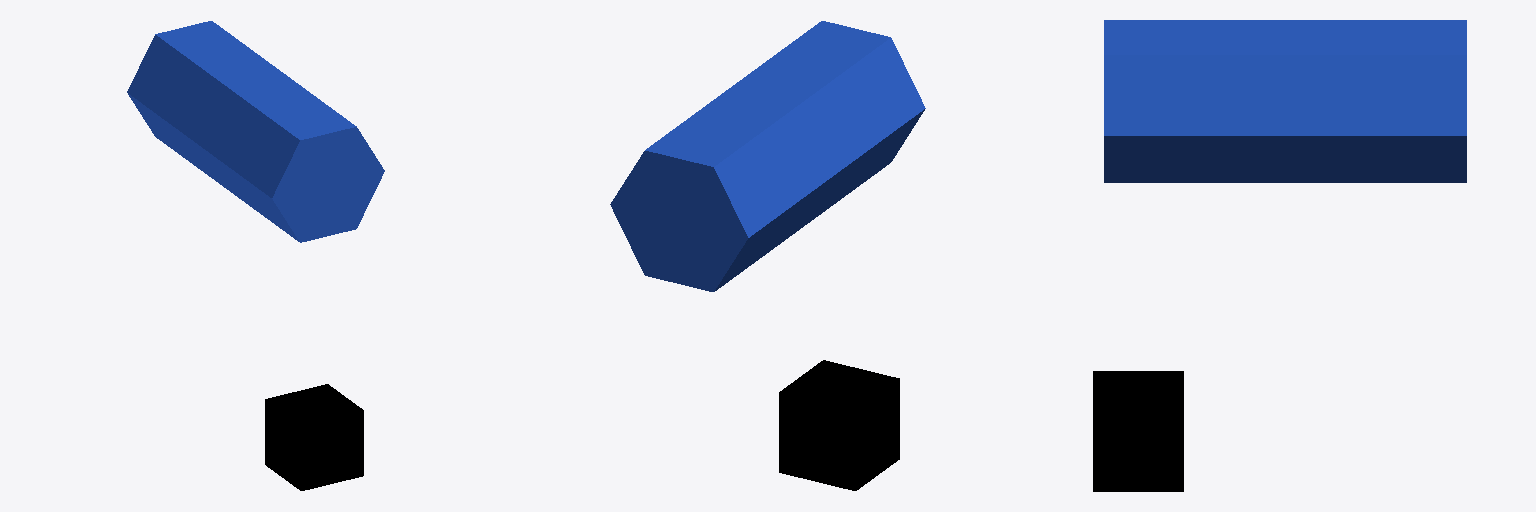
The robot description file, URDF, robot "ur5_robotiq_85":
<?xml version="1.0" ?>
<!-- =================================================================================== -->
<!-- |    This document was autogenerated by xacro from sisbot.xacro                   | -->
<!-- |    EDITING THIS FILE BY HAND IS NOT RECOMMENDED                                 | -->
<!-- =================================================================================== -->


<robot name="ur5_robotiq_85" xmlns:xacro="http://ros.org/wiki/xacro">
  <!--################################################
  ########              arm                    #######
  ####################################################-->

  <link name="base_link">
    <visual>
      <geometry>
        <mesh filename="../meshes/ur5/visual/base.obj"/>
      </geometry>
      <material name="LightGrey">
        <color rgba="0.7 0.7 0.7 1.0"/>
      </material>
    </visual>
    <collision>
      <geometry>
        <mesh filename="../meshes/ur5/collision/base.stl"/>
      </geometry>
    </collision>
    <inertial>
      <mass value="4.0"/>
      <origin rpy="0 0 0" xyz="0.0 0.0 0.0"/>
      <inertia ixx="0.00443333156" ixy="0.0" ixz="0.0" iyy="0.00443333156" iyz="0.0" izz="0.0072"/>
    </inertial>
  </link>

  <joint name="shoulder_pan_joint" type="revolute">
    <parent link="base_link"/>
    <child link="shoulder_link"/>
    <origin rpy="0.0 0.0 0.0" xyz="0.0 0.0 0.089159"/>
    <axis xyz="0 0 1"/>
    <limit effort="150.0" lower="-3.14159265359" upper="3.14159265359" velocity="3.15"/>
    <dynamics damping="0.0" friction="0.0"/>
  </joint>
  <link name="shoulder_link">
    <visual>
      <geometry>
        <mesh filename="../meshes/ur5/visual/shoulder.obj"/>
      </geometry>
      <material name="UR-Blue">
        <color rgba="0.376 0.576 0.674 1.0"/>
      </material>
    </visual>
    <collision>
      <geometry>
        <mesh filename="../meshes/ur5/collision/shoulder.stl"/>
      </geometry>
    </collision>
    <inertial>
      <mass value="3.7"/>
      <origin rpy="0 0 0" xyz="0.0 0.0 0.0"/>
      <inertia ixx="0.010267495893" ixy="0.0" ixz="0.0" iyy="0.010267495893" iyz="0.0" izz="0.00666"/>
    </inertial>
  </link>
  <joint name="shoulder_lift_joint" type="revolute">
    <parent link="shoulder_link"/>
    <child link="upper_arm_link"/>
    <origin rpy="0.0 1.57079632679 0.0" xyz="0.0 0.13585 0.0"/>
    <axis xyz="0 1 0"/>
    <limit effort="150.0" lower="-3.14159265359" upper="3.14159265359" velocity="3.15"/>
    <dynamics damping="0.0" friction="0.0"/>
  </joint>
  <link name="upper_arm_link">
    <visual>
      <geometry>
        <mesh filename="../meshes/ur5/visual/upperarm.obj"/>
      </geometry>
      <material name="LightGrey">
        <color rgba="0.7 0.7 0.7 1.0"/>
      </material>
    </visual>
    <collision>
      <geometry>
        <mesh filename="../meshes/ur5/collision/upperarm.stl"/>
      </geometry>
    </collision>
    <inertial>
      <mass value="8.393"/>
      <origin rpy="0 0 0" xyz="0.0 0.0 0.28"/>
      <inertia ixx="0.22689067591" ixy="0.0" ixz="0.0" iyy="0.22689067591" iyz="0.0" izz="0.0151074"/>
    </inertial>
  </link>
  <joint name="elbow_joint" type="revolute">
    <parent link="upper_arm_link"/>
    <child link="forearm_link"/>
    <origin rpy="0.0 0.0 0.0" xyz="0.0 -0.1197 0.425"/>
    <axis xyz="0 1 0"/>
    <limit effort="150.0" lower="-3.14159265359" upper="3.14159265359" velocity="3.15"/>
    <dynamics damping="0.0" friction="0.0"/>
  </joint>
  <link name="forearm_link">
    <visual>
      <geometry>
        <mesh filename="../meshes/ur5/visual/forearm.obj"/>
      </geometry>
      <material name="LightGrey">
        <color rgba="0.7 0.7 0.7 1.0"/>
      </material>
    </visual>
    <collision>
      <geometry>
        <mesh filename="../meshes/ur5/collision/forearm.stl"/>
      </geometry>
    </collision>
    <inertial>
      <mass value="2.275"/>
      <origin rpy="0 0 0" xyz="0.0 0.0 0.25"/>
      <inertia ixx="0.049443313556" ixy="0.0" ixz="0.0" iyy="0.049443313556" iyz="0.0" izz="0.004095"/>
    </inertial>
  </link>
  <joint name="wrist_1_joint" type="revolute">
    <parent link="forearm_link"/>
    <child link="wrist_1_link"/>
    <origin rpy="0.0 1.57079632679 0.0" xyz="0.0 0.0 0.39225"/>
    <axis xyz="0 1 0"/>
    <limit effort="28.0" lower="-3.14159265359" upper="3.14159265359" velocity="3.2"/>
    <dynamics damping="0.0" friction="0.0"/>
  </joint>
  <link name="wrist_1_link">
    <visual>
      <geometry>
        <mesh filename="../meshes/ur5/visual/wrist1.obj"/>
      </geometry>
      <material name="UR-Blue">
        <color rgba="0.376 0.576 0.674 1.0"/>
      </material>
    </visual>
    <collision>
      <geometry>
        <mesh filename="../meshes/ur5/collision/wrist1.stl"/>
      </geometry>
    </collision>
    <inertial>
      <mass value="1.219"/>
      <origin rpy="0 0 0" xyz="0.0 0.0 0.0"/>
      <inertia ixx="0.111172755531" ixy="0.0" ixz="0.0" iyy="0.111172755531" iyz="0.0" izz="0.21942"/>
    </inertial>
  </link>
  <joint name="wrist_2_joint" type="revolute">
    <parent link="wrist_1_link"/>
    <child link="wrist_2_link"/>
    <origin rpy="0.0 0.0 0.0" xyz="0.0 0.093 0.0"/>
    <axis xyz="0 0 1"/>
    <limit effort="28.0" lower="-3.14159265359" upper="3.14159265359" velocity="3.2"/>
    <dynamics damping="0.0" friction="0.0"/>
  </joint>
  <link name="wrist_2_link">
    <visual>
      <geometry>
        <mesh filename="../meshes/ur5/visual/wrist2.obj"/>
      </geometry>
      <material name="DarkGray">
        <color rgba="0.5 0.5 0.5 1.0"/>
      </material>
    </visual>
    <collision>
      <geometry>
        <mesh filename="../meshes/ur5/collision/wrist2.stl"/>
      </geometry>
    </collision>
    <inertial>
      <mass value="1.219"/>
      <origin rpy="0 0 0" xyz="0.0 0.0 0.0"/>
      <inertia ixx="0.111172755531" ixy="0.0" ixz="0.0" iyy="0.111172755531" iyz="0.0" izz="0.21942"/>
    </inertial>
  </link>
  <joint name="wrist_3_joint" type="revolute">
    <parent link="wrist_2_link"/>
    <child link="wrist_3_link"/>
    <origin rpy="0.0 0.0 0.0" xyz="0.0 0.0 0.09465"/>
    <axis xyz="0 1 0"/>
    <limit effort="28.0" lower="-3.14159265359" upper="3.14159265359" velocity="3.2"/>
    <dynamics damping="0.0" friction="0.0"/>
  </joint>
  <link name="wrist_3_link">
    <visual>
      <geometry>
        <mesh filename="../meshes/ur5/visual/wrist3.obj"/>
      </geometry>
      <material name="LightGrey">
        <color rgba="0.7 0.7 0.7 1.0"/>
      </material>
    </visual>
    <collision>
      <geometry>
        <mesh filename="../meshes/ur5/collision/wrist3.stl"/>
      </geometry>
    </collision>
    <inertial>
      <mass value="0.1879"/>
      <origin rpy="0 0 0" xyz="0.0 0.0 0.0"/>
      <inertia ixx="0.0171364731454" ixy="0.0" ixz="0.0" iyy="0.0171364731454" iyz="0.0" izz="0.033822"/>
    </inertial>
  </link>
  <joint name="ee_fixed_joint" type="fixed">
    <parent link="wrist_3_link"/>
    <child link="ee_link"/>
    <origin rpy="0.0 0.0 1.57079632679" xyz="0.0 0.0823 0.0"/>
  </joint>
  <link name="ee_link">
    <collision>
      <geometry>
        <box size="0.01 0.01 0.01"/>
      </geometry>
      <origin rpy="0 0 0" xyz="-0.01 0 0"/>
    </collision>
  </link>
  <!-- hexagon link -->
  <link name="hexagon_link">
    <visual>
      <origin xyz="0 0 0" rpy="0 0 0"/>
      <geometry>
          <!-- Point to hexagon peg mesh - reshaped such that it has ~0.012 clearance from all sides  and height is again 0.08 -->
          <mesh filename="hexagon_peg.stl" scale="1 1 1"/>
      </geometry>
      <material name="Blue">
        <color rgba="0.2 0.4 0.8 1.0"/>
      </material>
    </visual>
    <collision>
      <origin xyz="0 0 0" rpy="0 0 0"/>
      <geometry>
        <mesh filename="hexagon_peg.stl" scale="1 1 1"/>
      </geometry>
    </collision>
    <inertial>
      <mass value="0.1"/>
      <origin xyz="0 0 0.1" rpy="0 0 0"/>
      <inertia ixx="0.0001" ixy="0" ixz="0" iyy="0.0001" iyz="0" izz="0.0001"/>
    </inertial>
  </link>
  <!-- camera -->
  <link name="camera_link">
    <visual>
      <origin xyz="0 0 0" rpy="0 0 0"/>
      <geometry>
        <box size="0.02 0.02 0.02"/>  
      </geometry>
      <material name="black">
        <color rgba="0 0 0 1"/>
      </material>
    </visual>
    <collision>
      <origin xyz="0 0 0" rpy="0 0 0"/>
      <geometry>
        <box size="0.02 0.02 0.02"/>
      </geometry>
    </collision>
    <inertial>
      <mass value="0.01"/>
      <origin xyz="0 0 0" rpy="0 0 0"/>
      <inertia ixx="1e-5" ixy="0" ixz="0" iyy="1e-5" iyz="0" izz="1e-5"/>
    </inertial>
  </link>





<!--  hexagon connect ee_link joint -->
<joint name="ee_hexagon_joint" type="fixed">
  <parent link="ee_link"/>
  <child link="hexagon_link"/>
  <origin rpy="0 -1.57079632679 0" xyz="0 0 0"/>
</joint>
<!-- camera connect wrist_3_link joint -->
<joint name="camera_joint" type="fixed">
  <parent link="wrist_3_link"/>
  <child link="camera_link"/>
  <origin xyz="0 0.05 0.08" rpy="1.57079632679 1.57079632679 0"/>
</joint>


</robot>

--- What the picture shows (computed from the rendered views, not written in the file) ---
3 views of the same robot in one strip: view 1: azimuth 30°, elevation 25°; view 2: azimuth 150°, elevation 25°; view 3: azimuth 270°, elevation 25° (orthographic).
Model ur5_robotiq_85 with 10 links and 9 joints (6 revolute, 3 fixed), rooted at base_link, posed all joints at 0.
Visible links, largest first — view 1: hexagon_link, camera_link; view 2: hexagon_link, camera_link; view 3: hexagon_link, camera_link.
Link boxes in pixels (<box>): hexagon_link: <box>127,21,384,242</box>; camera_link: <box>265,384,363,490</box>; hexagon_link: <box>610,21,925,291</box>; camera_link: <box>779,360,899,490</box>; hexagon_link: <box>1104,20,1466,182</box>; camera_link: <box>1093,371,1183,491</box>.
Bounding box of the posed robot: 0.036 × 0.0823 × 0.1056 m (x, y, z).
1 mesh visuals loaded from 8 distinct referenced files (1 binary STL); not drawn: 7 (reference not matched to a file when rendering).